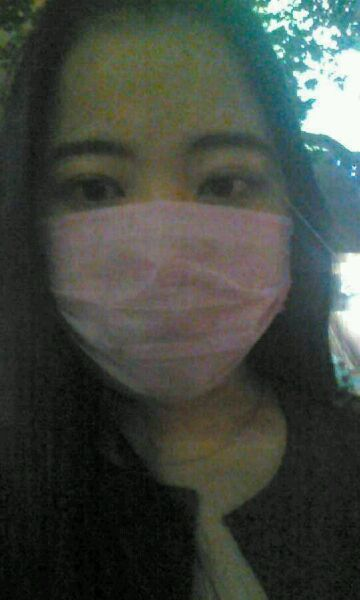face_mask: (44, 36, 294, 397)
